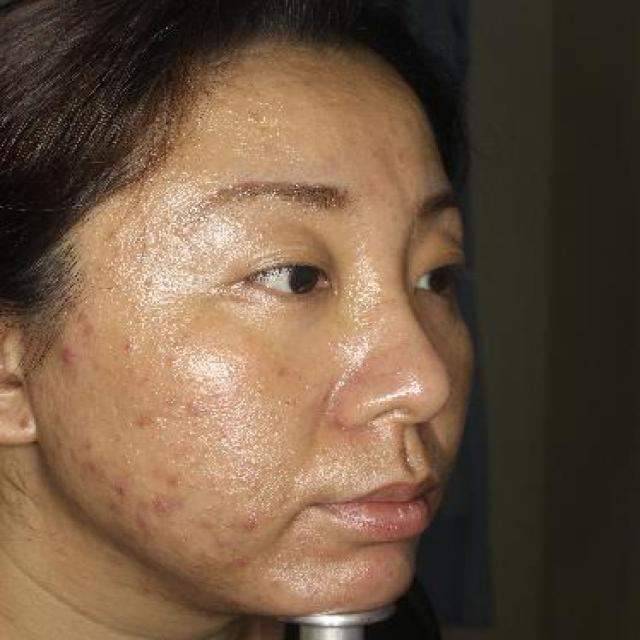blackheads: (110, 480, 128, 495)
dark spot: (178, 400, 212, 426), (128, 408, 158, 432)
papules: (53, 348, 84, 370)
pustules: (145, 492, 178, 520), (118, 334, 142, 358), (238, 515, 263, 534)
